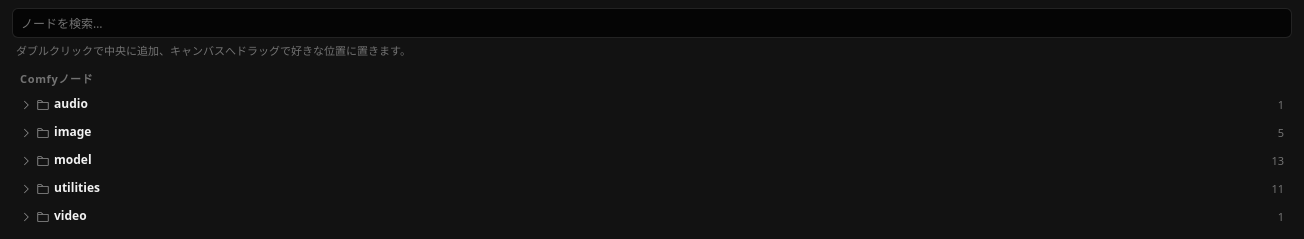
the node library › lists what a search matches with where it sits, and says when nothing matches
Type "integer" into the field labelled "ノードを検索…".
click(652, 23); type("integer")  # box [12,8,1292,38]
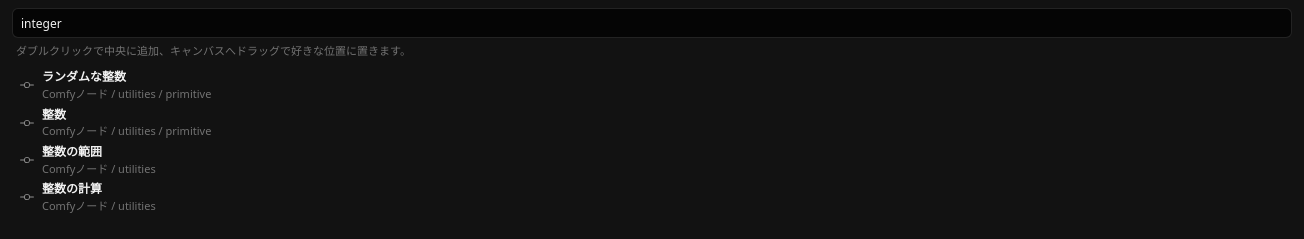
Expected: the button with test id "wf-lib-item" shows "Comfyノード", [12,67,1292,104]
Expected: no elements with test id "wf-lib-section" are shown
Replace the text in the field named "ノードを検索…" with "zzzzzzzz" at (652, 23), box [12,8,1292,38]
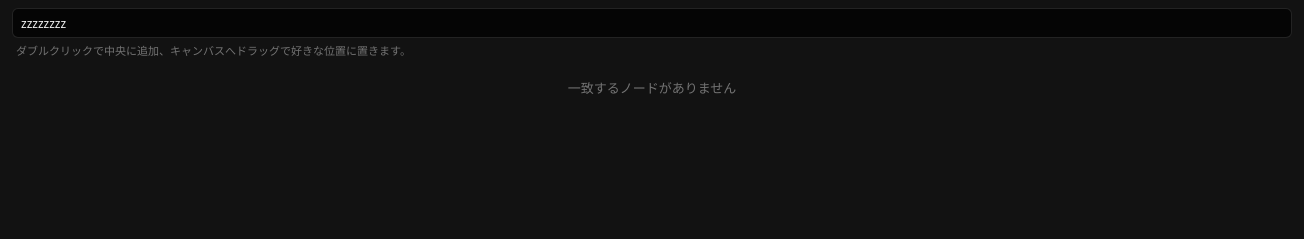
Expected: no buttons with test id "wf-lib-item" are shown
Expected: the text "一致するノードがありません" is shown, [568,79,736,97]
